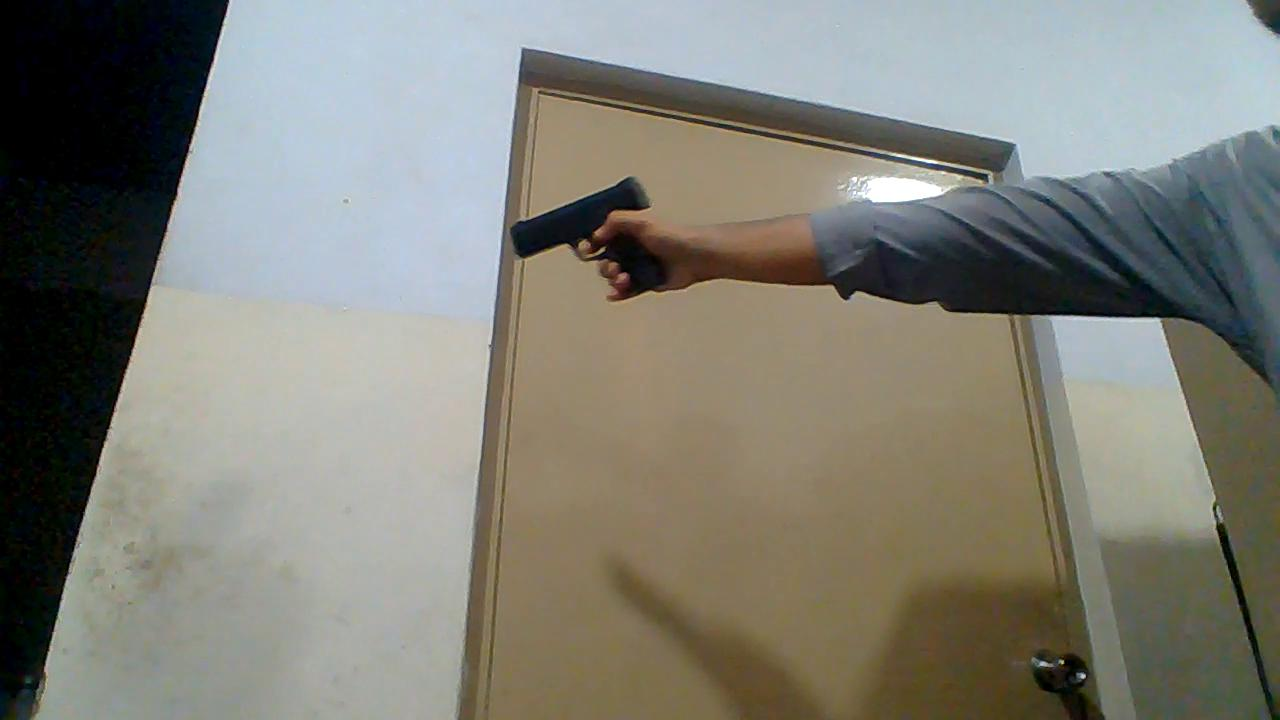weapon: (510, 176, 672, 295)
